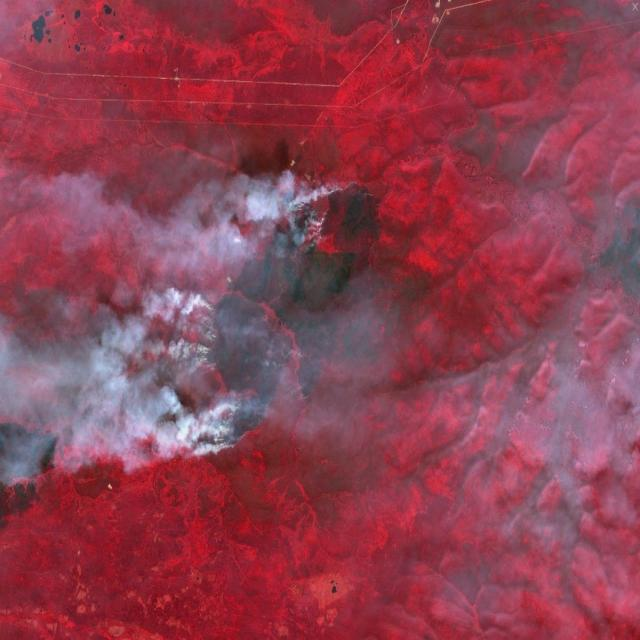fire: (195, 288, 329, 454)
